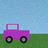vehicle: (4, 24, 29, 43)
